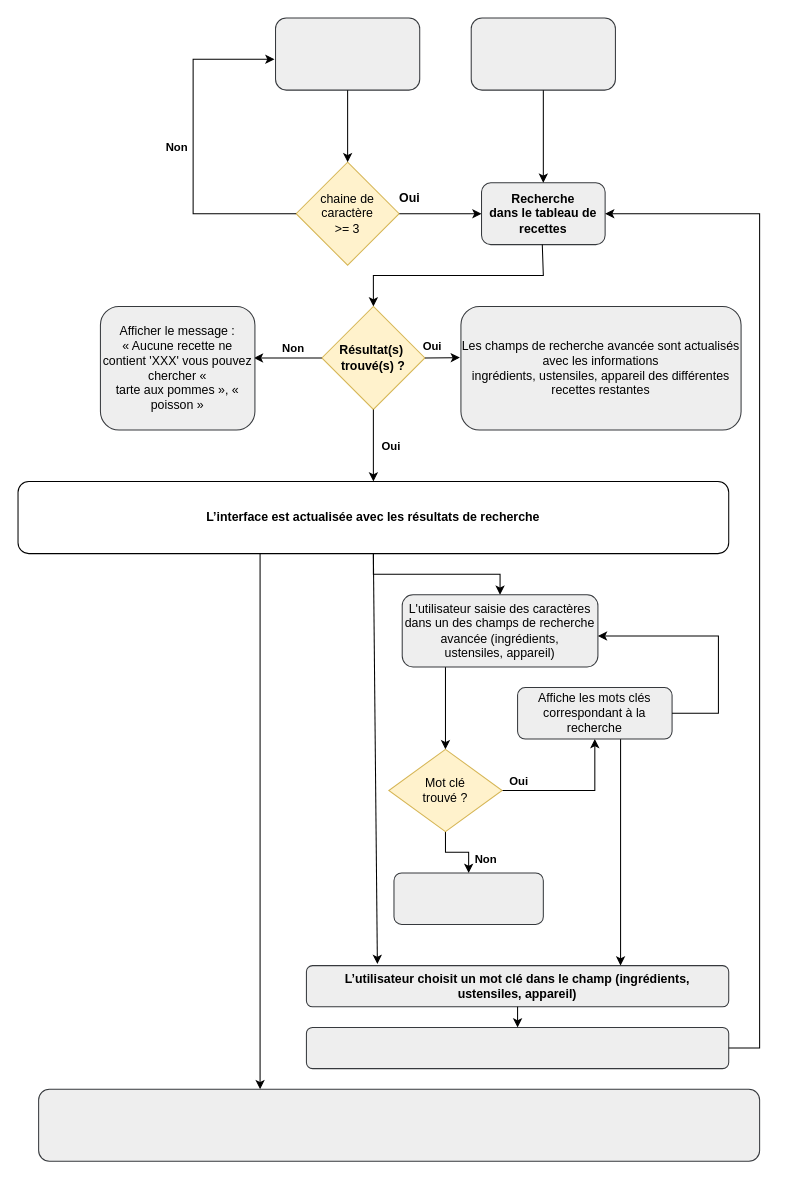
Image size: 786x1179. Some labels were removed from this diagram. The shapes that lost their labels are listed below. From the top down, each one's centre as x and y in pixels, then its label:
[347,53]: L’utilisateur saisie des caractères dans la barre de recherche.
[542,53]: L’utilisateur commence la recherche par un tag.
[468,898]: Afficher le message : "Aucun résultats."
[517,1047]: Le mot clé apparaît sous forme de tag sous la recherche principale
[399,1124]: L’utilisateur sélectionne une recette
